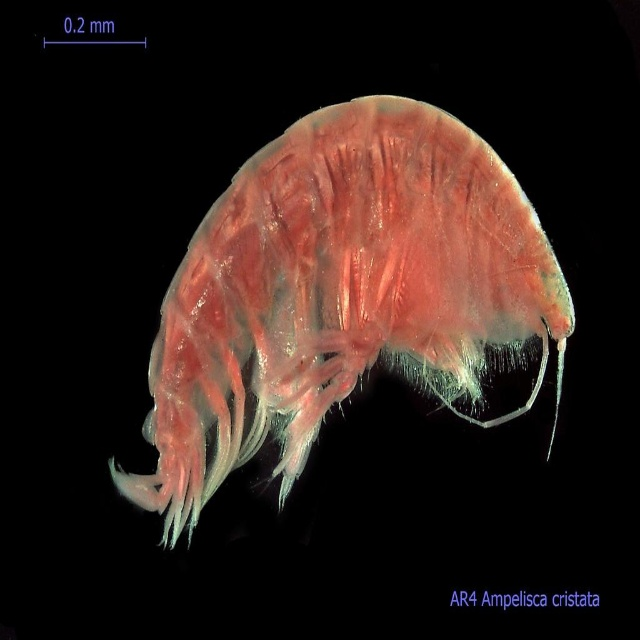Jellyfish: (162, 70, 596, 507)
